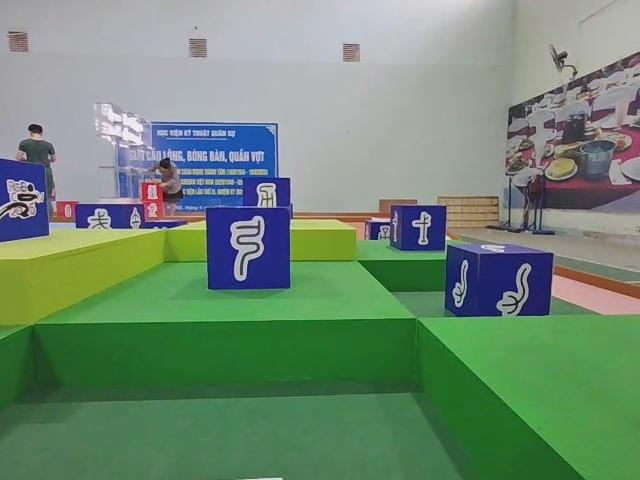R1 Blue: (0, 160, 48, 248)
R2 Fake Blue: (204, 208, 290, 295), (76, 202, 147, 230), (244, 178, 292, 211)
R2 Real Blue: (445, 242, 554, 317), (391, 204, 447, 251), (363, 219, 391, 239)
